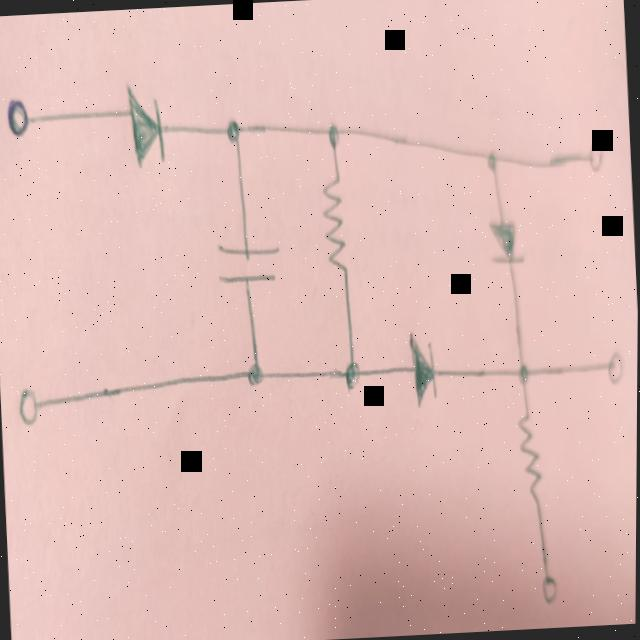capacitor: (217, 232, 280, 290)
diode: (127, 80, 168, 168), (407, 331, 441, 412), (489, 210, 524, 268)
junction: (342, 354, 366, 396), (242, 358, 268, 389), (325, 116, 343, 156), (225, 112, 244, 148), (514, 356, 533, 392), (483, 144, 502, 179)
resistor: (319, 170, 349, 282), (516, 406, 544, 506)
terminal: (6, 94, 33, 138), (16, 383, 43, 426), (584, 136, 606, 175), (603, 349, 625, 388), (540, 572, 560, 603)
